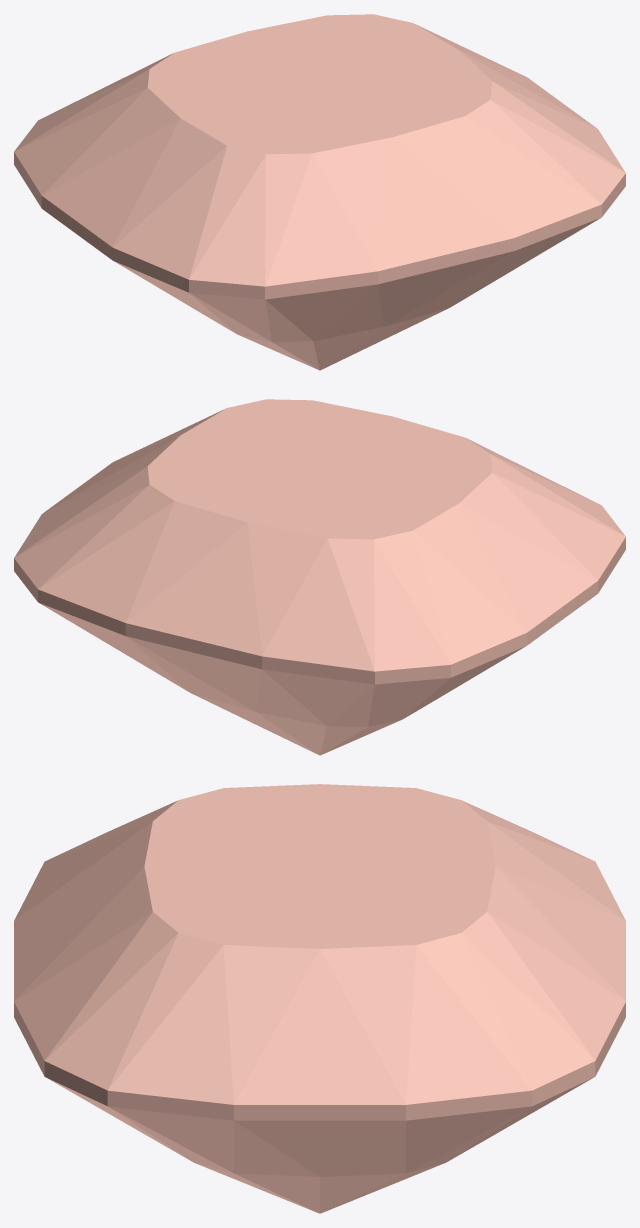
The model's file is padparadscha.glb.
3 renders of one model, top to bottom at view 1: azimuth 30°, elevation 25°; view 2: azimuth 150°, elevation 25°; view 3: azimuth 270°, elevation 25°, orthographic. The views are drawn at different scales.
Visible parts, largest first — view 1: padparadscha; view 2: padparadscha; view 3: padparadscha.
Boxes of the visible parts, x1,y1,x2,y2 form: padparadscha: (14,14,625,370); padparadscha: (14,399,625,755); padparadscha: (14,784,625,1213).
Size of the model in its own units: 0.25 by 0.1409 by 0.225.
